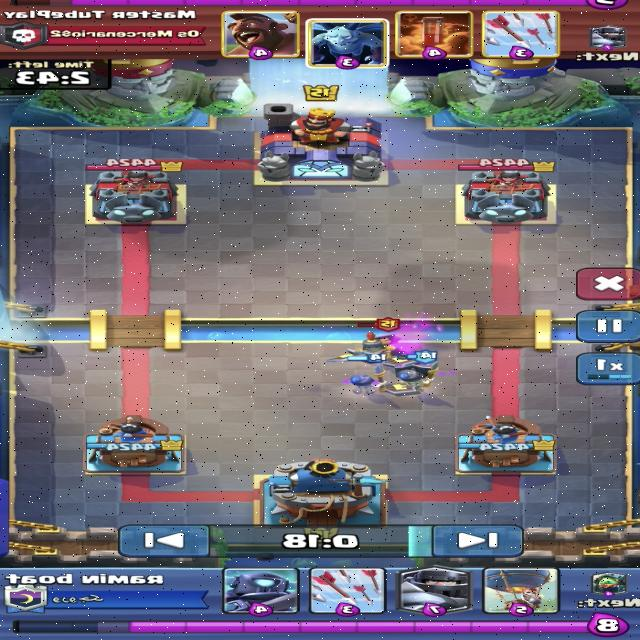Enemy-Guard: (346, 316, 401, 364)
Player-Guard: (376, 351, 435, 396), (346, 350, 389, 396)
